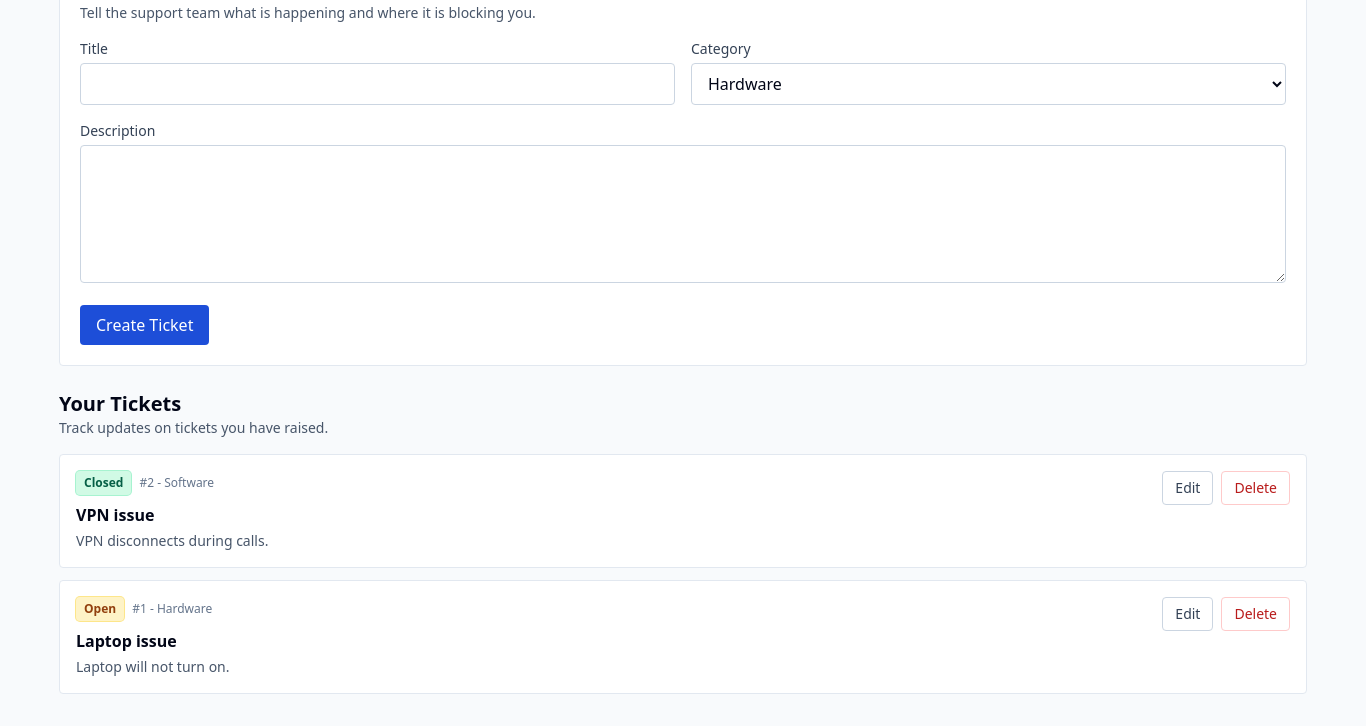
Test: deletes a ticket after confirmation
(page scrolled)
Click the button "Delete" in the row of "Hardware".
click(1256, 614)  # box [1221,597,1290,631]
(page scrolled)
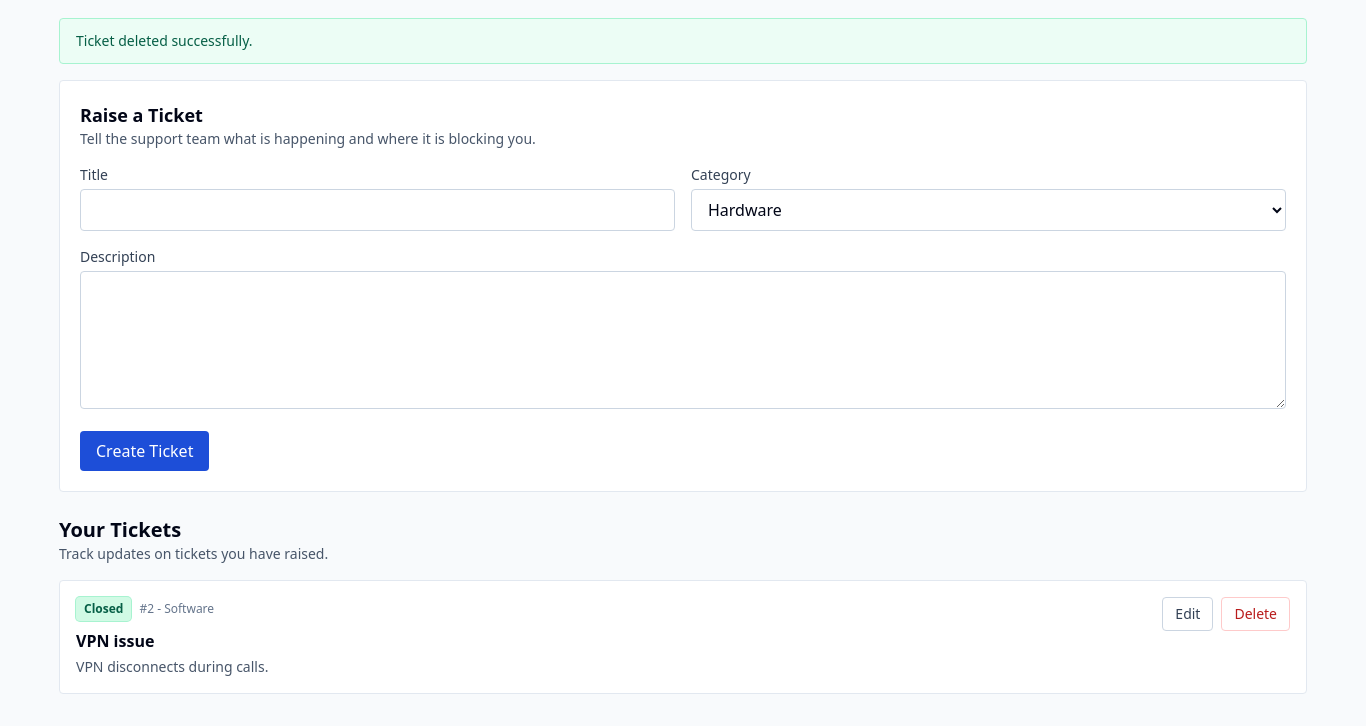
Expected: the heading "Laptop issue" is gone
Expected: the text "Ticket deleted successfully." is shown, [59,18,1307,64]
